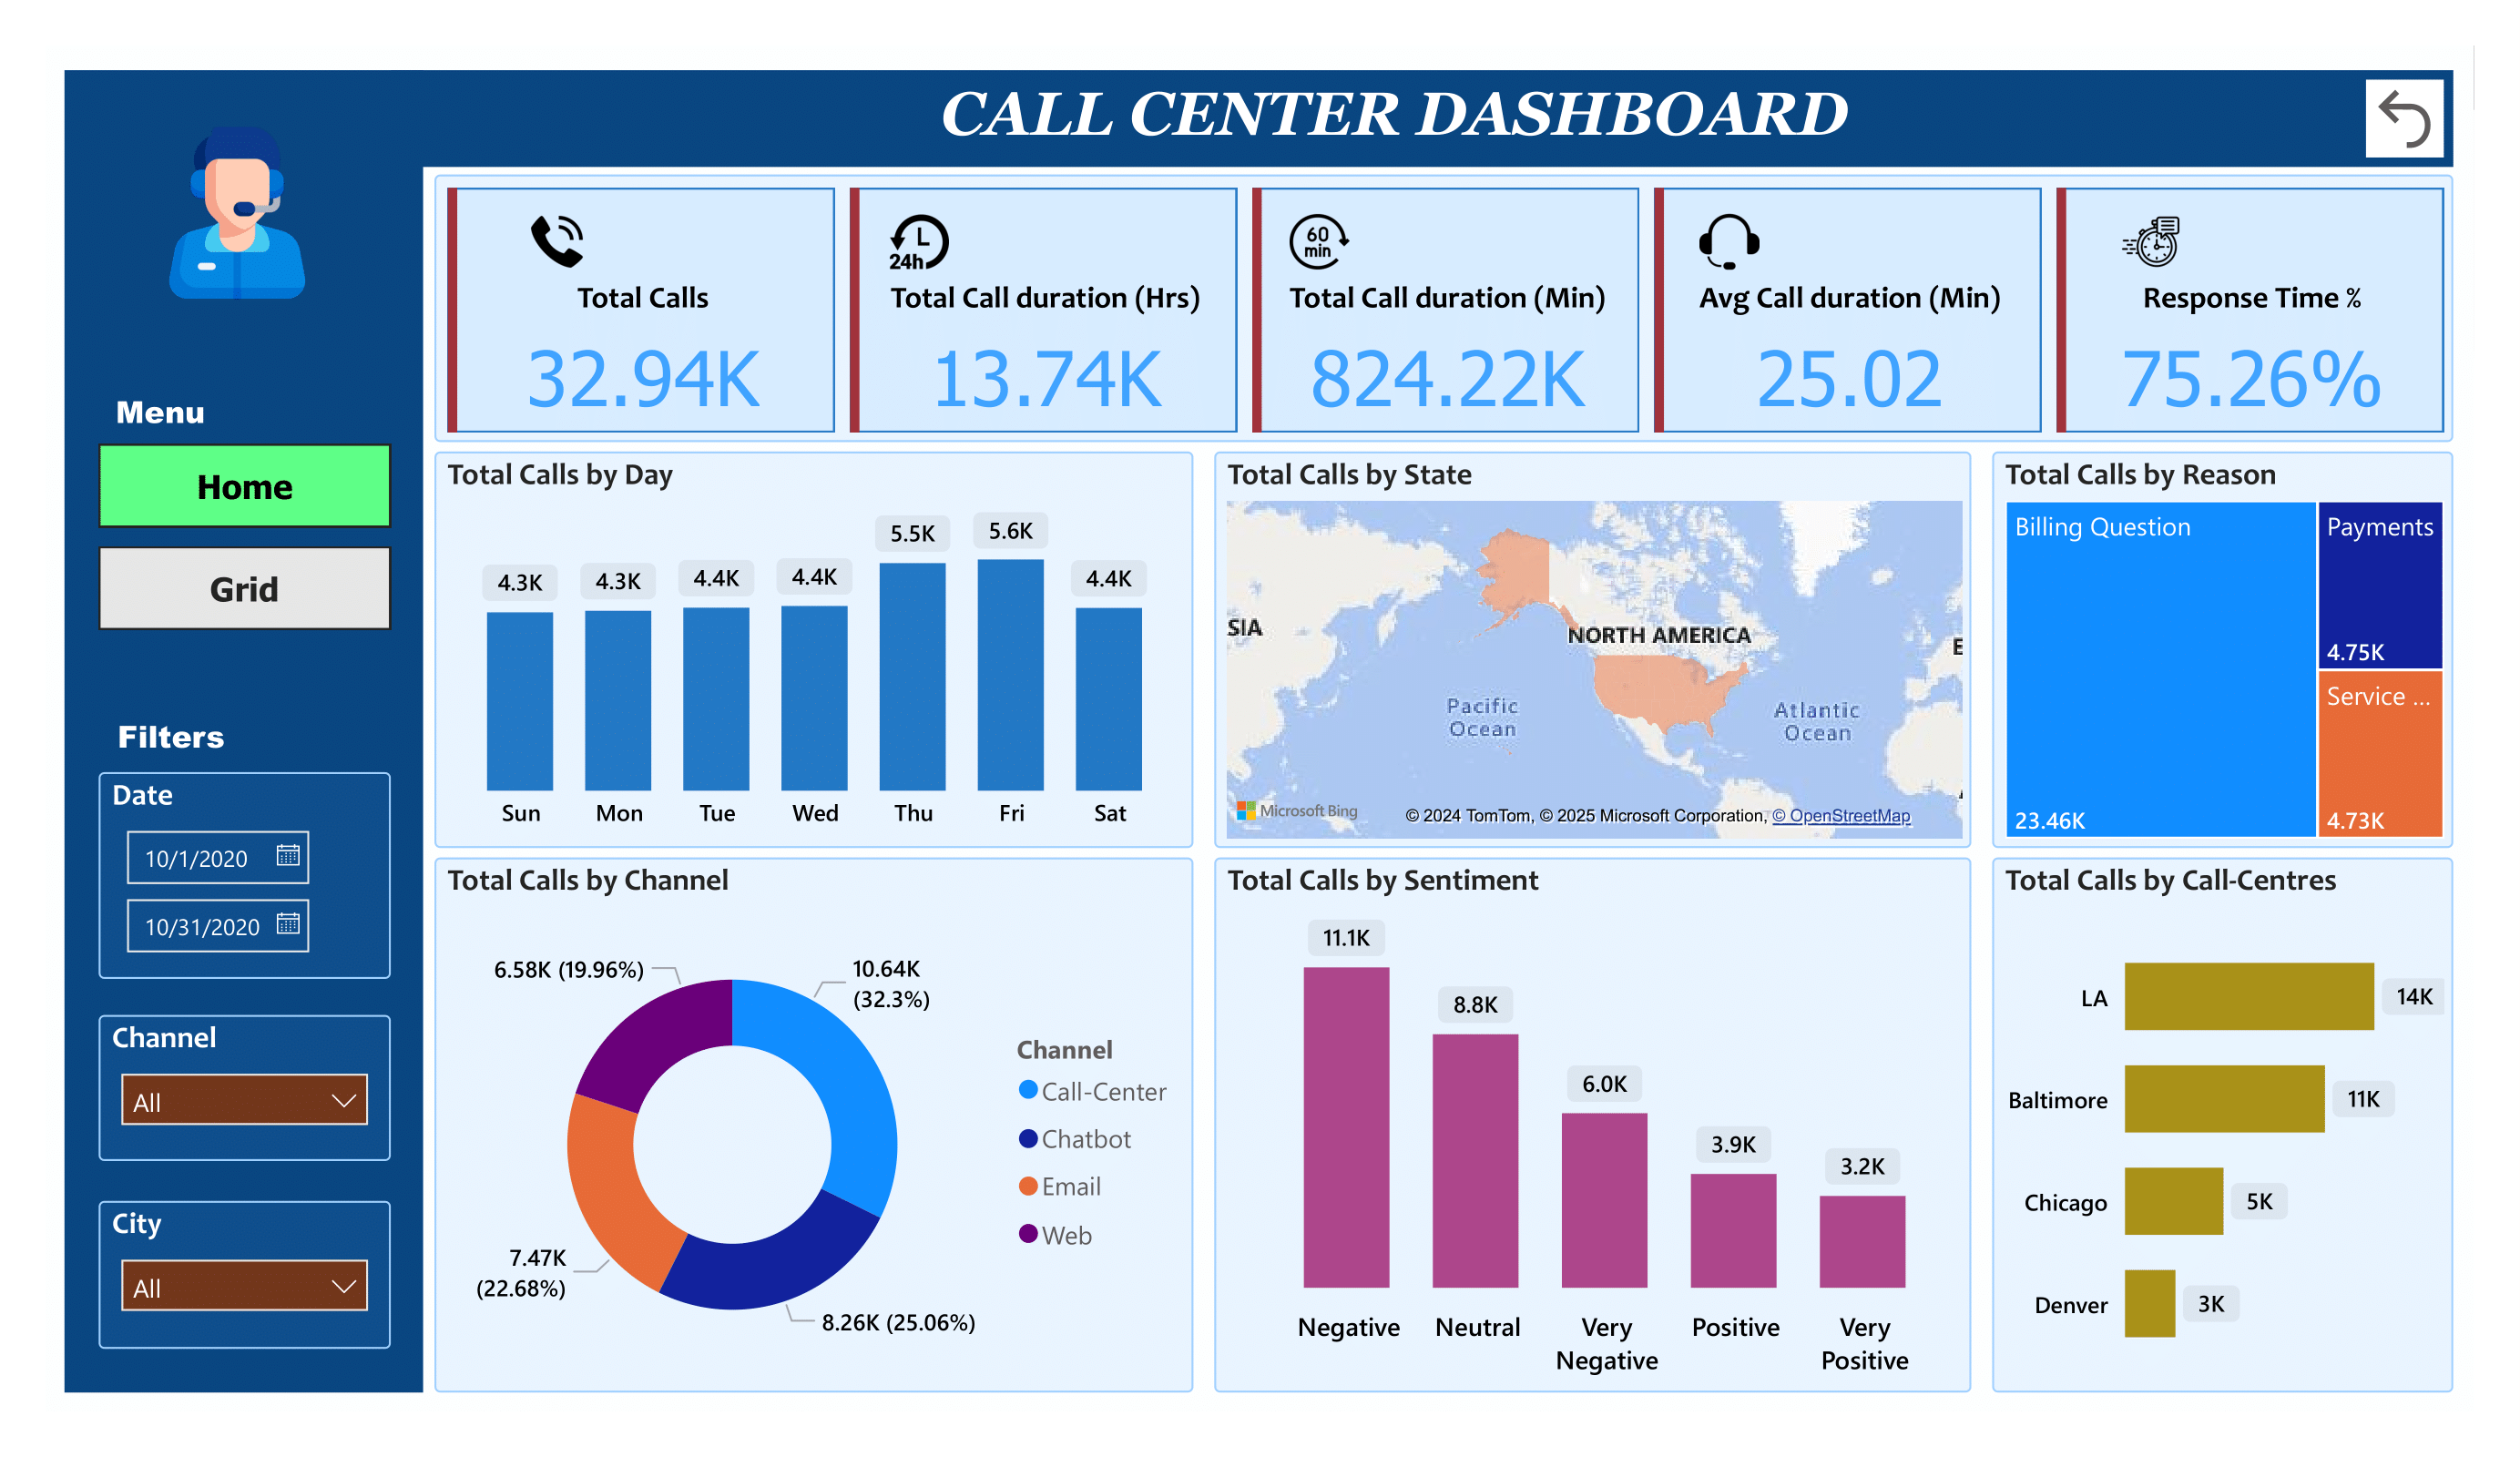

The dashboard page shown, as its layout file describes it:
{"tool":"powerbi","page":{"name":"Home","canvas":[1280,720],"ordinal":0},"visuals":[{"type":"shape","box":[9.8,13.4,189.5,696.8],"z":0},{"type":"shape","box":[182.1,13.4,1086.7,50.1],"z":1000},{"type":"cardVisual","fields":{"Data":["Call Center_Call Center.# Total Calls","Call Center_Call Center.Total Call duration (Hrs)","Call Center_Call Center.Total Call duration (Min)","Call Center_Call Center.Average Call duration (Min)","Call Center_Call Center.Response Time %"]},"box":[205.4,68.5,1063.5,140.6],"z":2000},{"type":"clusteredColumnChart","title":"Total Calls by Day","fields":{"Y":["Call Center_Call Center.# Total Calls"],"Category":["Date Table.Day"]},"box":[205.4,213.9,399.7,209],"z":3000},{"type":"textbox","box":[467,13.4,501.2,50.1],"z":4000},{"type":"filledMap","fields":{"Category":["Call Center_Call Center.State"]},"box":[616.1,213.9,398.5,209],"z":5000},{"type":"treemap","fields":{"Group":["Call Center_Call Center.Reason"],"Values":["Call Center_Call Center.Total Calls"]},"box":[1025.6,213.9,243.3,209],"z":6000},{"type":"donutChart","fields":{"Category":["Call Center_Call Center.Channel"],"Y":["Call Center_Call Center.Total Calls"]},"box":[205.4,427.8,399.7,282.4],"z":7000},{"type":"clusteredColumnChart","fields":{"Category":["Call Center_Call Center.Sentiment"],"Y":["Call Center_Call Center.Total Calls"]},"box":[616,428,399,282],"z":8000},{"type":"clusteredBarChart","fields":{"Category":["Call Center_Call Center.Call-Centres"],"Y":["Call Center_Call Center.Total Calls"]},"box":[1026,428,243,282],"z":9000},{"type":"slicer","title":"Date","fields":{"Values":["Date Table.Date"]},"box":[28.1,382.8,154,108.8],"z":10000},{"type":"slicer","title":"Channel","fields":{"Values":["Call Center_Call Center.Channel"]},"box":[28.1,511.2,154,77],"z":11000},{"type":"slicer","title":"City","fields":{"Values":["Call Center_Call Center.City"]},"box":[28.1,609,154,78.2],"z":12000},{"type":"pageNavigator","box":[28.1,210.3,154,99],"z":13000},{"type":"textbox","box":[31.8,176,77,33],"z":14000},{"type":"textbox","box":[33,347.2,77,33],"z":15000},{"type":"image","box":[28.1,37.9,145.5,100.3],"z":16000},{"type":"actionButton","box":[1222.8,18.3,41.6,40.4],"z":17000}]}

Visuals, with their boxes in screenshot pixels (x1, y1, x2, y2):
shape: <box>64,71,423,1393</box>
shape: <box>391,71,2454,166</box>
cardVisual - Call Center_Call Center.# Total Calls x Call Center_Call Center.Total Call duration (Hrs): <box>435,176,2454,443</box>
"Total Calls by Day" clusteredColumnChart: <box>435,452,1194,848</box>
textbox: <box>932,71,1882,166</box>
filledMap - Call Center_Call Center.State: <box>1215,452,1971,848</box>
treemap - Call Center_Call Center.Reason x Call Center_Call Center.Total Calls: <box>1992,452,2454,848</box>
donutChart - Call Center_Call Center.Channel x Call Center_Call Center.Total Calls: <box>435,857,1194,1393</box>
clusteredColumnChart - Call Center_Call Center.Sentiment x Call Center_Call Center.Total Calls: <box>1214,858,1972,1392</box>
clusteredBarChart - Call Center_Call Center.Call-Centres x Call Center_Call Center.Total Calls: <box>1993,858,2454,1392</box>
"Date" slicer: <box>99,772,391,978</box>
"Channel" slicer: <box>99,1015,391,1161</box>
"City" slicer: <box>99,1201,391,1350</box>
pageNavigator: <box>99,444,391,632</box>
textbox: <box>106,380,252,442</box>
textbox: <box>108,704,254,767</box>
image: <box>99,117,375,308</box>
actionButton: <box>2366,80,2444,157</box>
